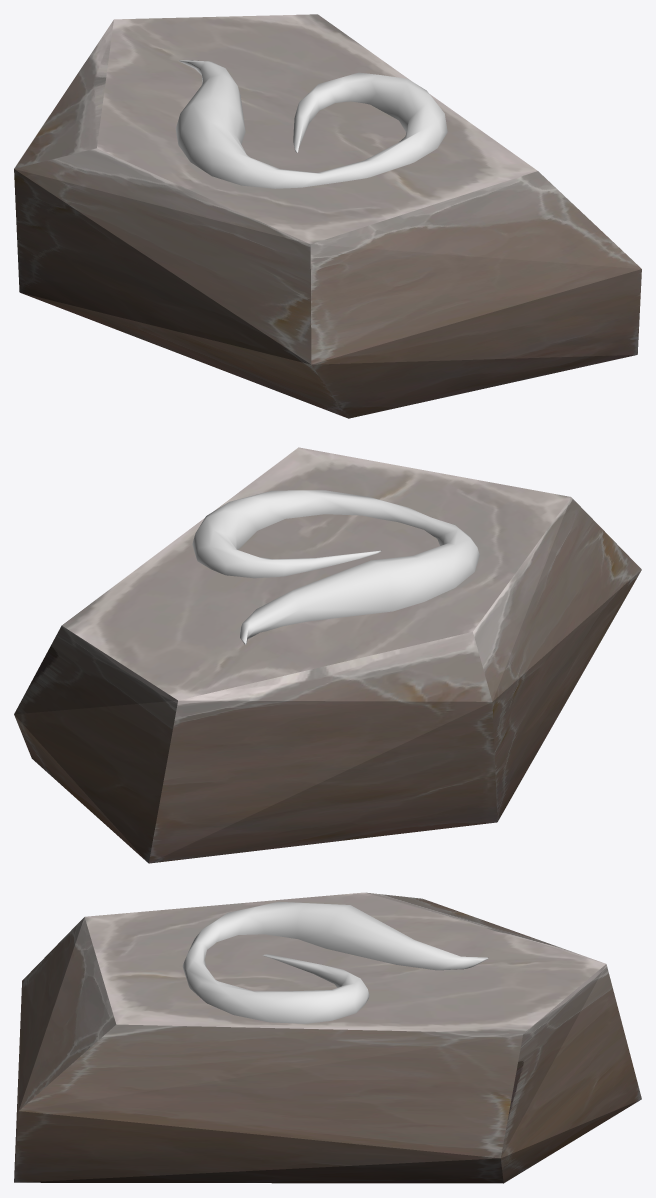
Rendered from manarune.fbx.
3 renders of one model, top to bottom at view 1: azimuth 30°, elevation 25°; view 2: azimuth 150°, elevation 25°; view 3: azimuth 270°, elevation 25°, orthographic. The views are drawn at different scales.
Visible parts, largest first — view 1: Stone_5_Low, BezierCurve.001; view 2: Stone_5_Low, BezierCurve.001; view 3: Stone_5_Low, BezierCurve.001.
Part boxes in pixels (<box>): Stone_5_Low: <box>14,14,641,418</box>; BezierCurve.001: <box>175,60,447,188</box>; Stone_5_Low: <box>14,447,641,863</box>; BezierCurve.001: <box>192,490,479,644</box>; Stone_5_Low: <box>14,892,641,1183</box>; BezierCurve.001: <box>182,901,488,1023</box>.
Size of the model in its own units: 29.64 by 12.75 by 42.54.
